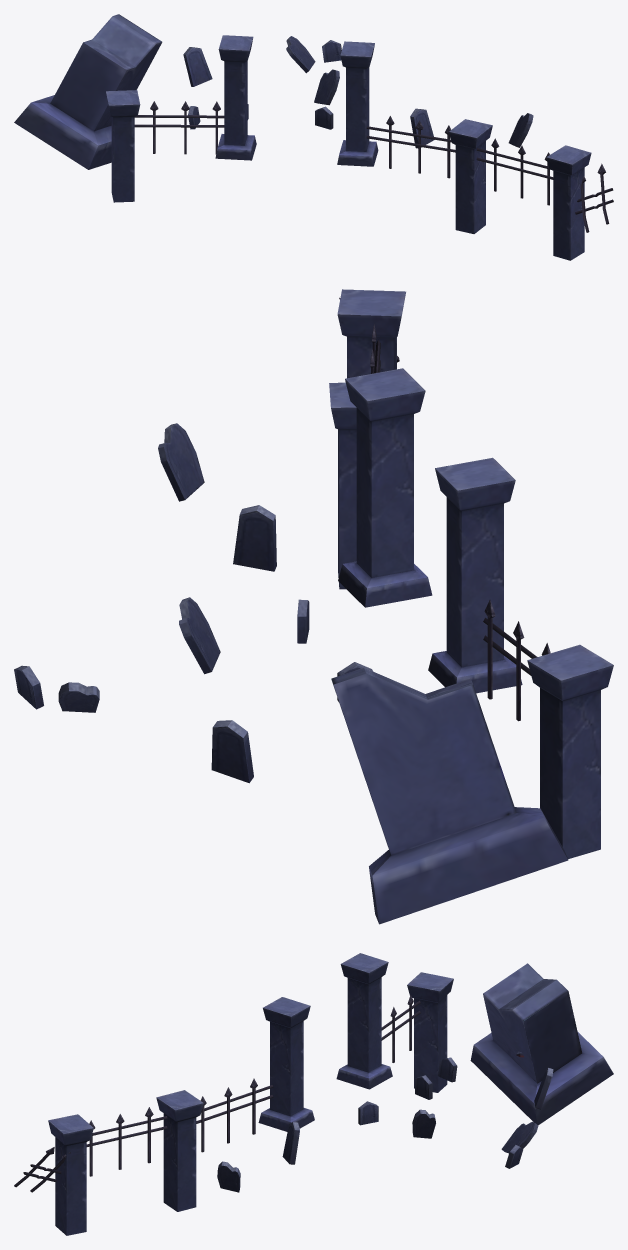
File: Area14_18.fbx
The picture shows the model from 3 angles, top to bottom: view 1: azimuth 30°, elevation 25°; view 2: azimuth 150°, elevation 25°; view 3: azimuth 270°, elevation 25°; orthographic projection. The views are drawn at different scales.
Visible parts, largest first — view 1: Area14_18; view 2: Area14_18; view 3: Area14_18.
Boxes of the visible parts, x1,y1,x2,y2 form: Area14_18: [14, 14, 613, 260]; Area14_18: [14, 289, 613, 924]; Area14_18: [14, 953, 613, 1235].
Bounding box in the file's own units: 3126 × 1368 × 4192.
